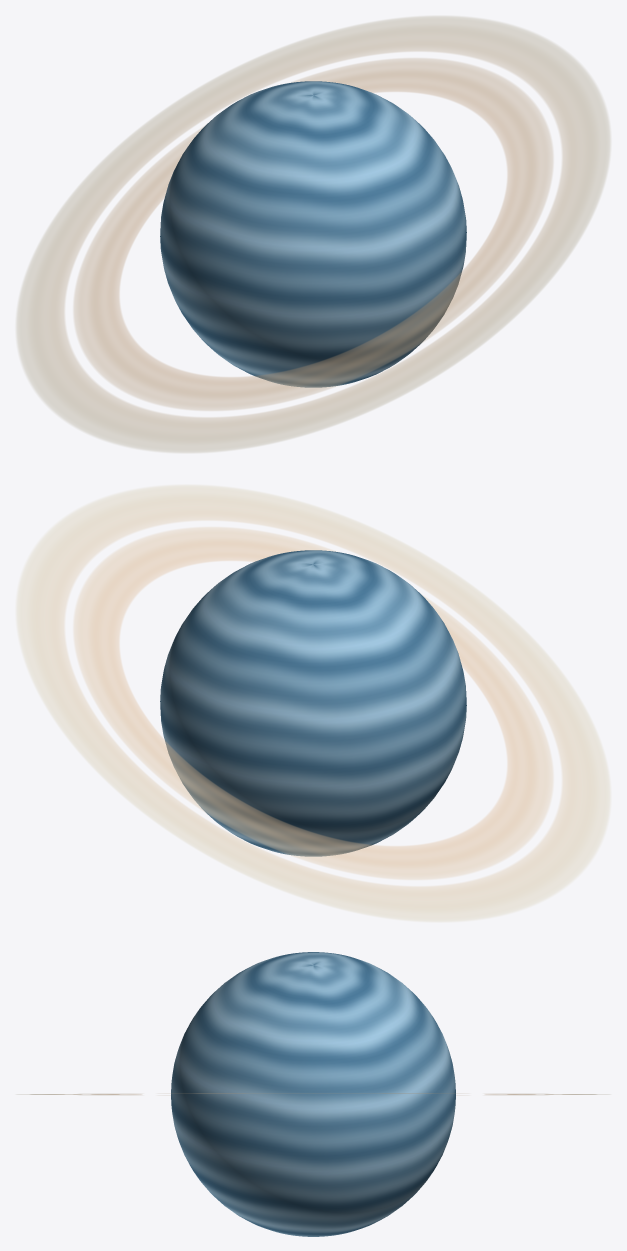
Rendered from planet.glb.
3 views of the same model, one above another, from view 1: azimuth 30°, elevation 25°; view 2: azimuth 150°, elevation 25°; view 3: azimuth 270°, elevation 25° (orthographic). The views are drawn at different scales.
Visible parts, largest first — view 1: Rings, Planet; view 2: Rings, Planet; view 3: Planet, Rings.
Part boxes in pixels (bbox=[...]): Rings: bbox=[16, 16, 610, 452]; Planet: bbox=[160, 81, 466, 387]; Rings: bbox=[16, 485, 610, 921]; Planet: bbox=[160, 550, 466, 856]; Planet: bbox=[171, 952, 455, 1236]; Rings: bbox=[17, 1093, 609, 1095].
Size of the model in its own units: 3.8 by 2 by 4.2.
2 materials, 2 textured.
